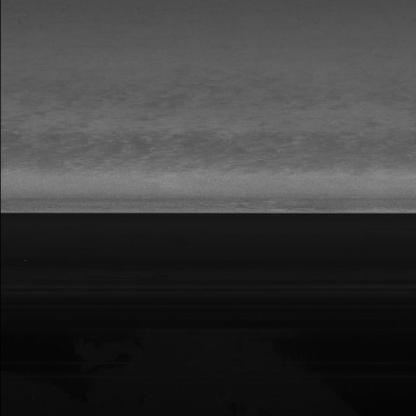silk_spot: (93, 130, 336, 184)
